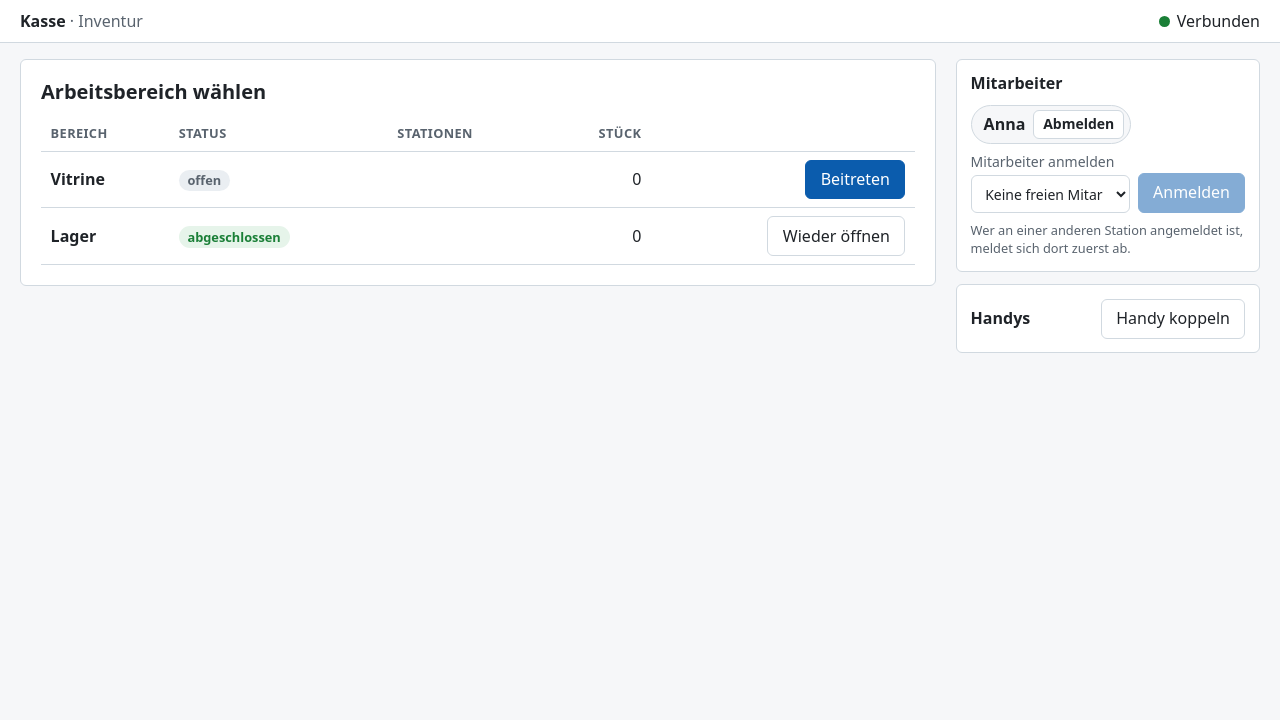
Test case: work area selection at the workstation › joins an open work area and leaves it again
expect the button "Wieder öffnen" is shown: met, box x1=768 y1=216 x2=905 y2=256
Click the button "Beitreten" at point(855, 180), box x1=805 y1=160 x2=905 y2=200
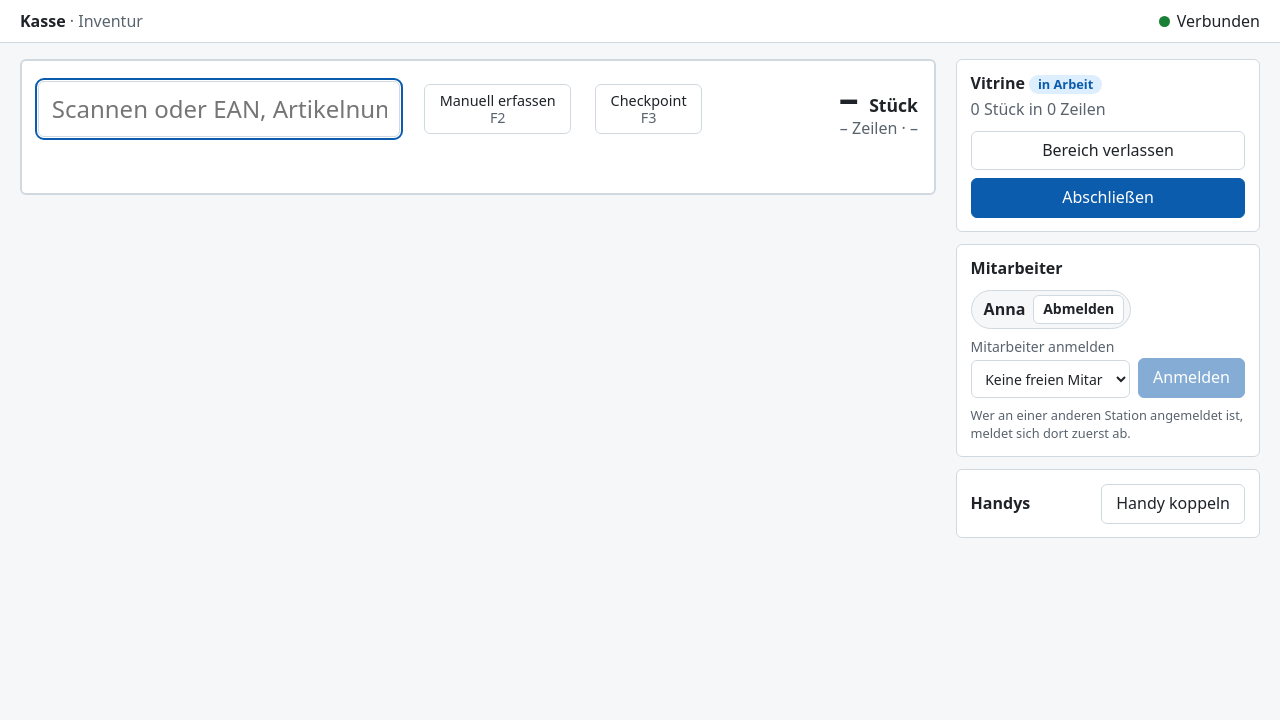
expect the heading "Vitrine in Arbeit" is shown: met, box x1=971 y1=72 x2=1102 y2=94
Click the button "Bereich verlassen" at point(1108, 150), box x1=971 y1=131 x2=1245 y2=170
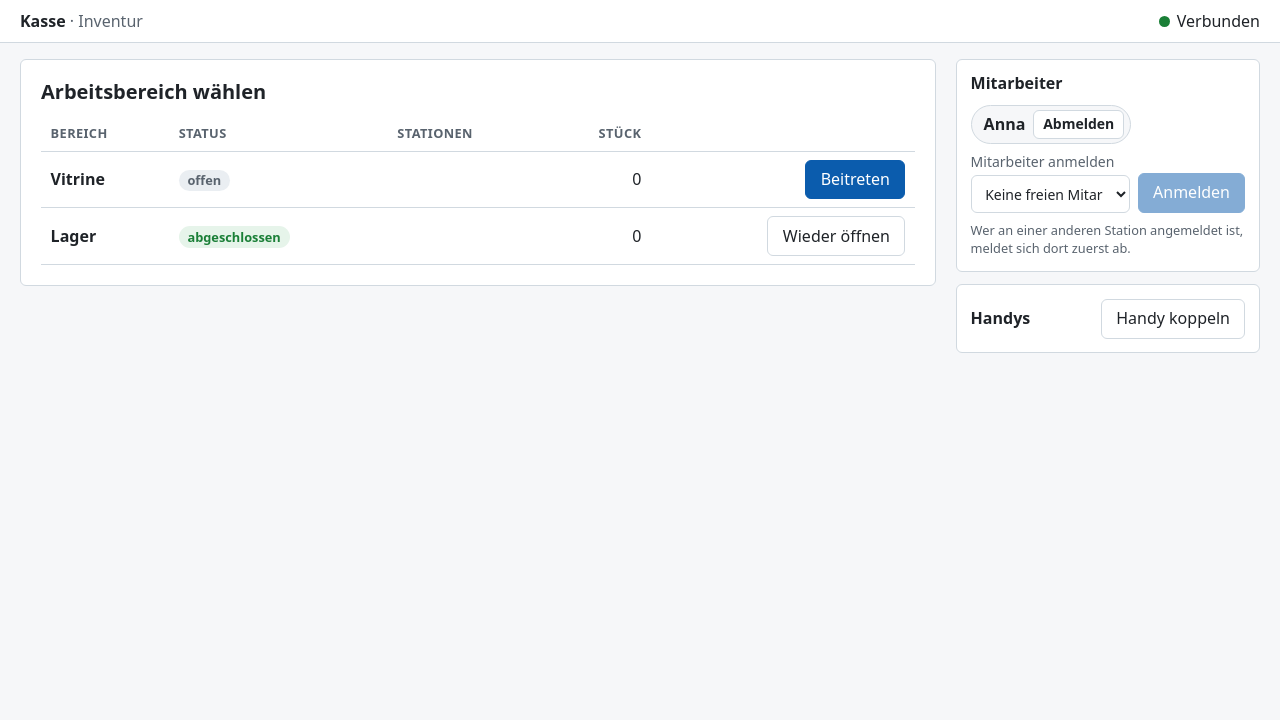
expect the heading "Arbeitsbereich wählen" is shown: met, box x1=41 y1=78 x2=266 y2=105
